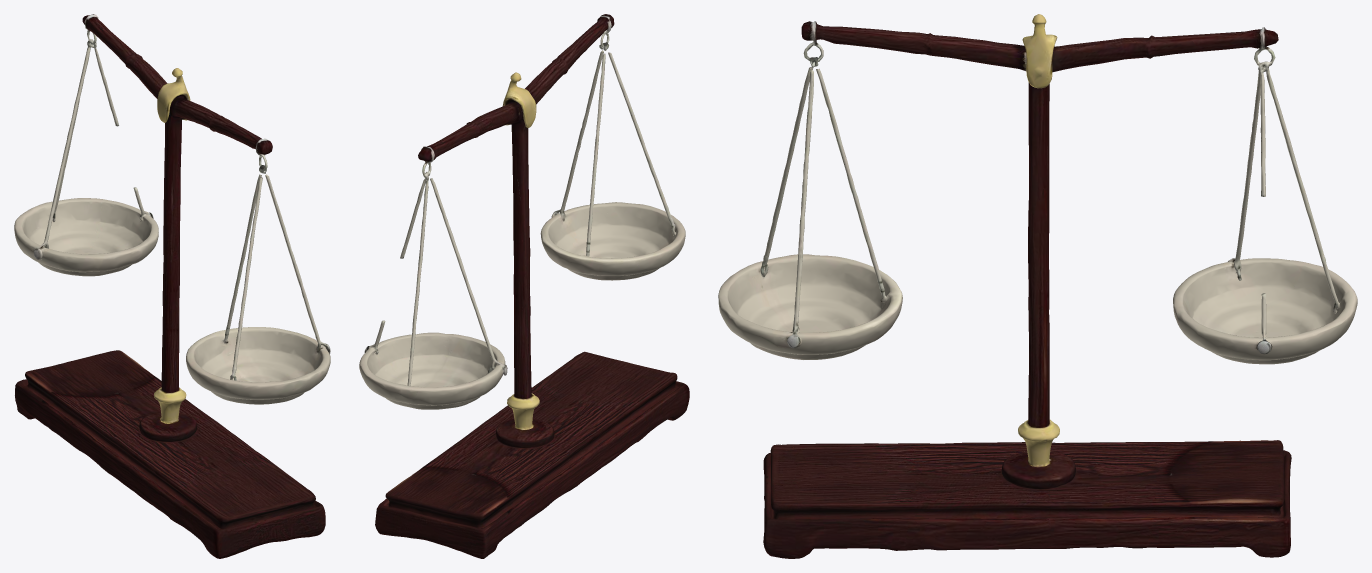
Rendered from apothecary-scale.glb.
3 views of the same model, side by side, from view 1: azimuth 30°, elevation 25°; view 2: azimuth 150°, elevation 25°; view 3: azimuth 270°, elevation 25° (orthographic). The views are drawn at different scales.
Visible parts, largest first — view 1: tripo_node_222de4f9-44b4-435e-887b-42556cfccc28; view 2: tripo_node_222de4f9-44b4-435e-887b-42556cfccc28; view 3: tripo_node_222de4f9-44b4-435e-887b-42556cfccc28.
Part boxes in pixels (<box>): tripo_node_222de4f9-44b4-435e-887b-42556cfccc28: <box>14,14,330,558</box>; tripo_node_222de4f9-44b4-435e-887b-42556cfccc28: <box>359,14,689,558</box>; tripo_node_222de4f9-44b4-435e-887b-42556cfccc28: <box>718,14,1357,558</box>.
Bounding box in the file's own units: 0.3096 × 0.8947 × 1.
1 material, 1 textured.
